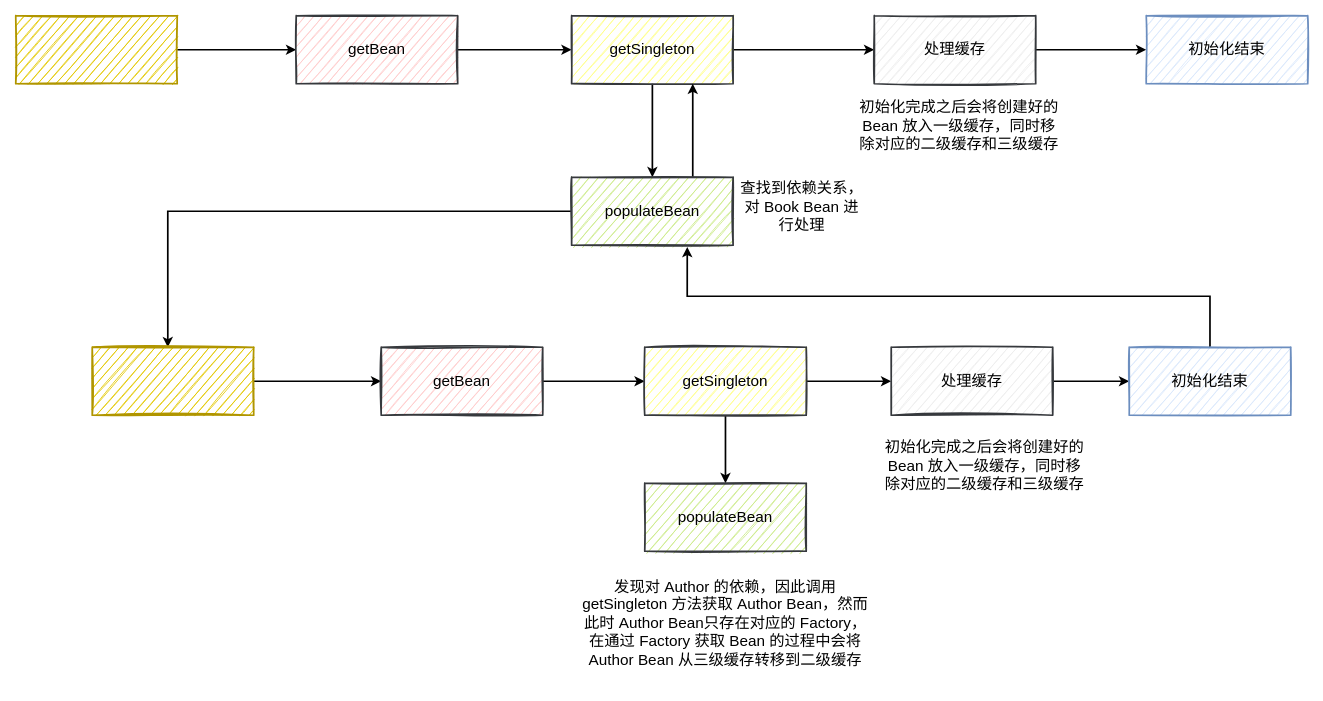
The diagram is 1323 pixels wide and 701 high, and some of its shapes have lost their labels. Each missing label, with the centre of its shape:
"Author Bean" belongs at (96,49).
"Book Bean" belongs at (172,381).
